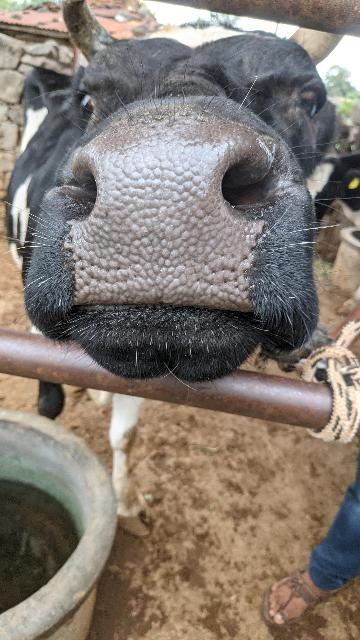Muzzle: (76, 134, 240, 306)
